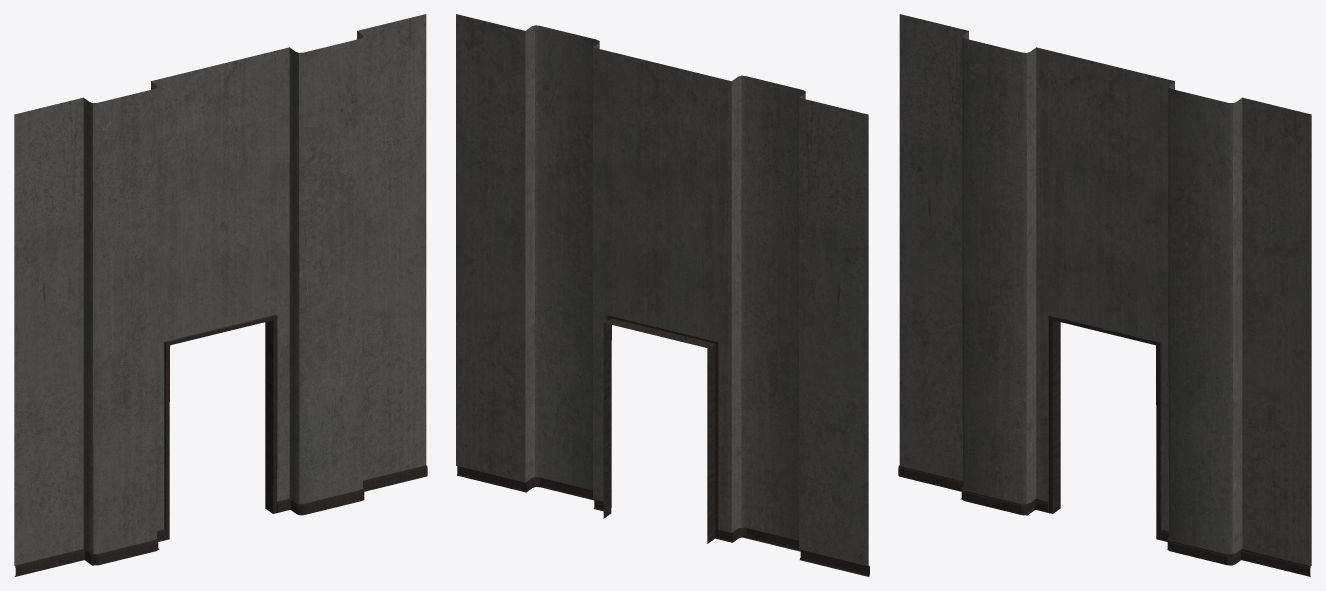
Rendered from Elevador.fbx.
The picture shows the model from 3 angles, left to right: view 1: azimuth 30°, elevation 25°; view 2: azimuth 150°, elevation 25°; view 3: azimuth 330°, elevation 25°; orthographic projection.
Visible parts, largest first — view 1: Plane.004; view 2: Plane.004; view 3: Plane.004.
Part boxes in pixels (left/top/right/bottom): Plane.004: left=14, top=14, right=427, bottom=576; Plane.004: left=456, top=14, right=869, bottom=576; Plane.004: left=898, top=14, right=1311, bottom=576.
Bounding box in the file's own units: 1192 × 1277 × 85.92.
